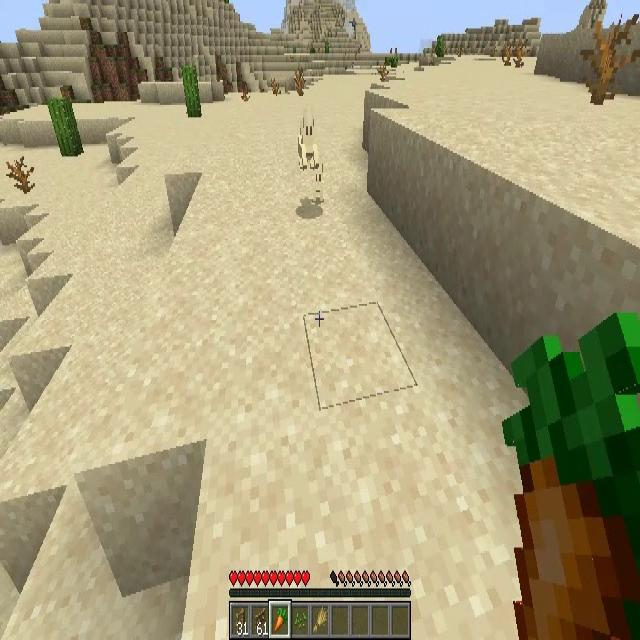rabbit: (296, 110, 318, 170), (306, 154, 324, 209)
